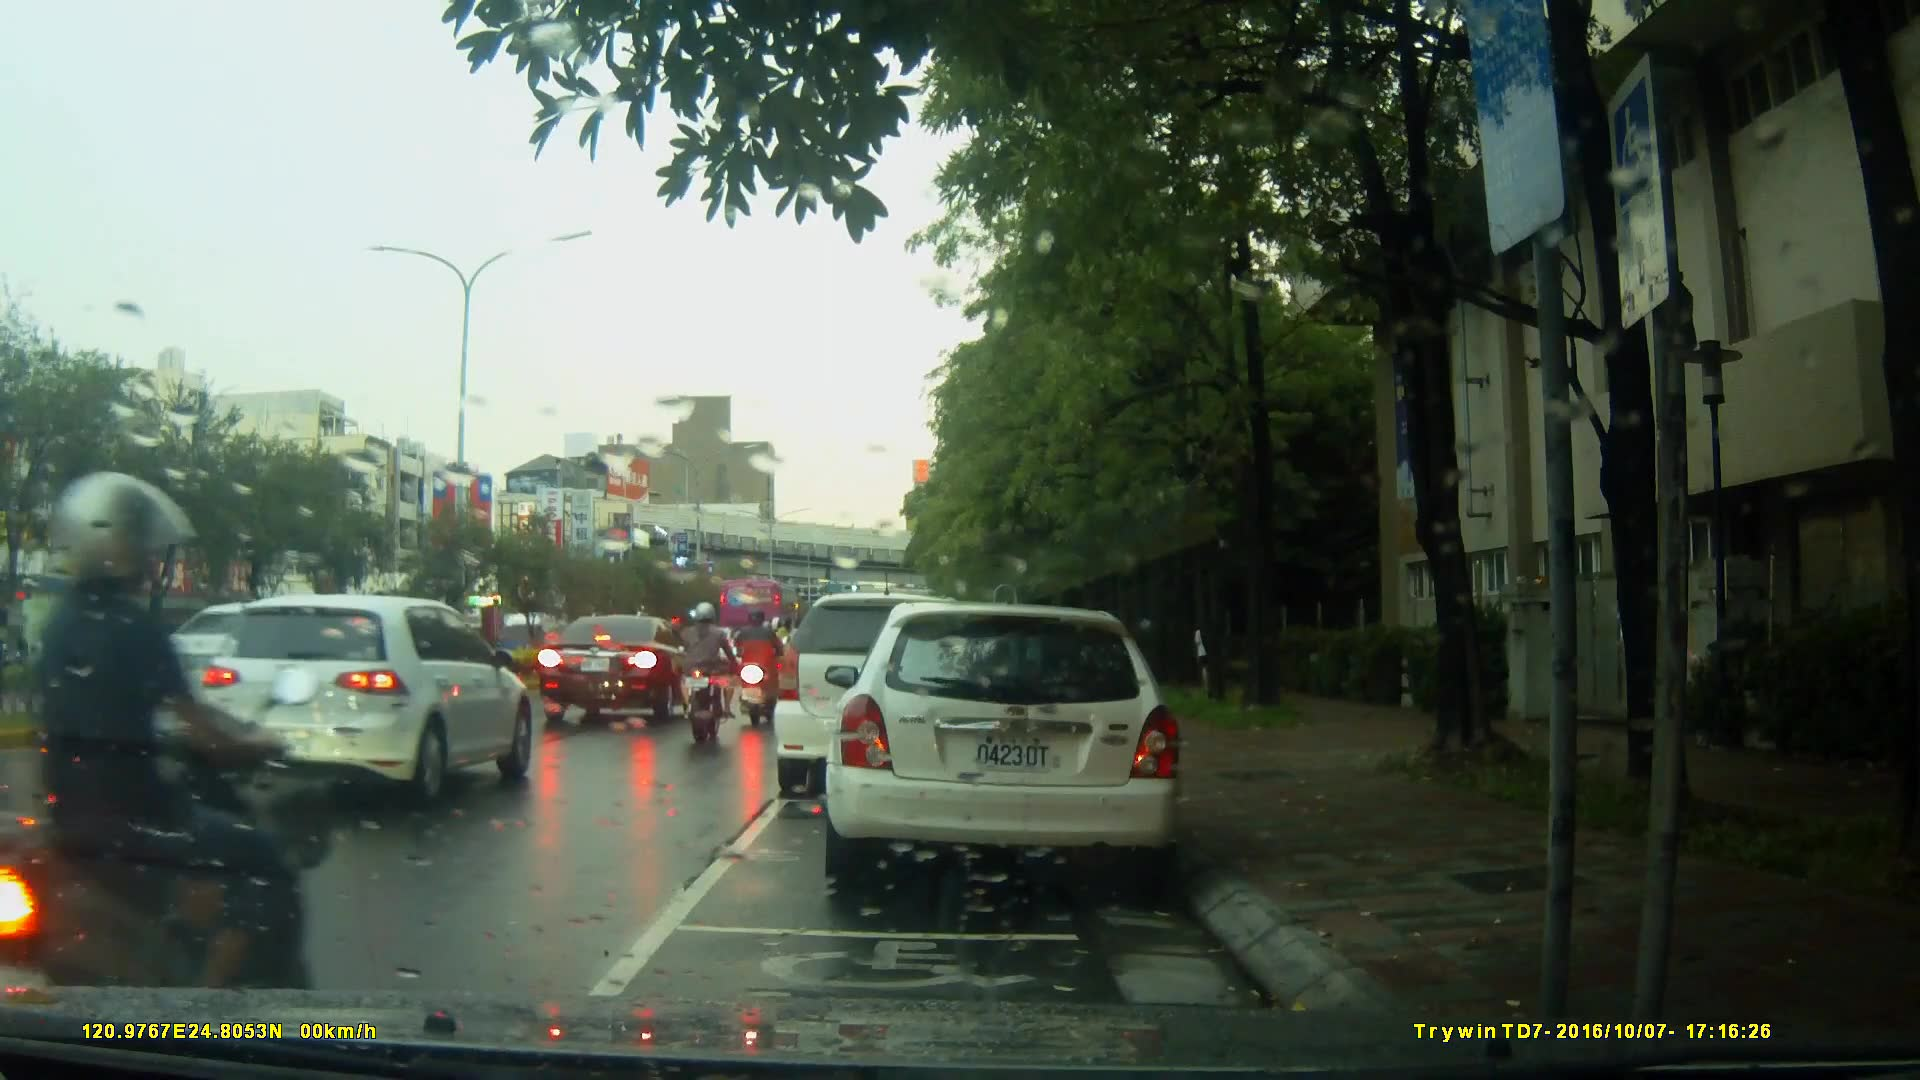rider: (13, 469, 325, 1047), (678, 601, 735, 752), (733, 603, 785, 731)
vehicle: (835, 594, 1194, 898), (191, 589, 533, 811), (776, 590, 1026, 784), (536, 612, 705, 729), (717, 577, 803, 647)
